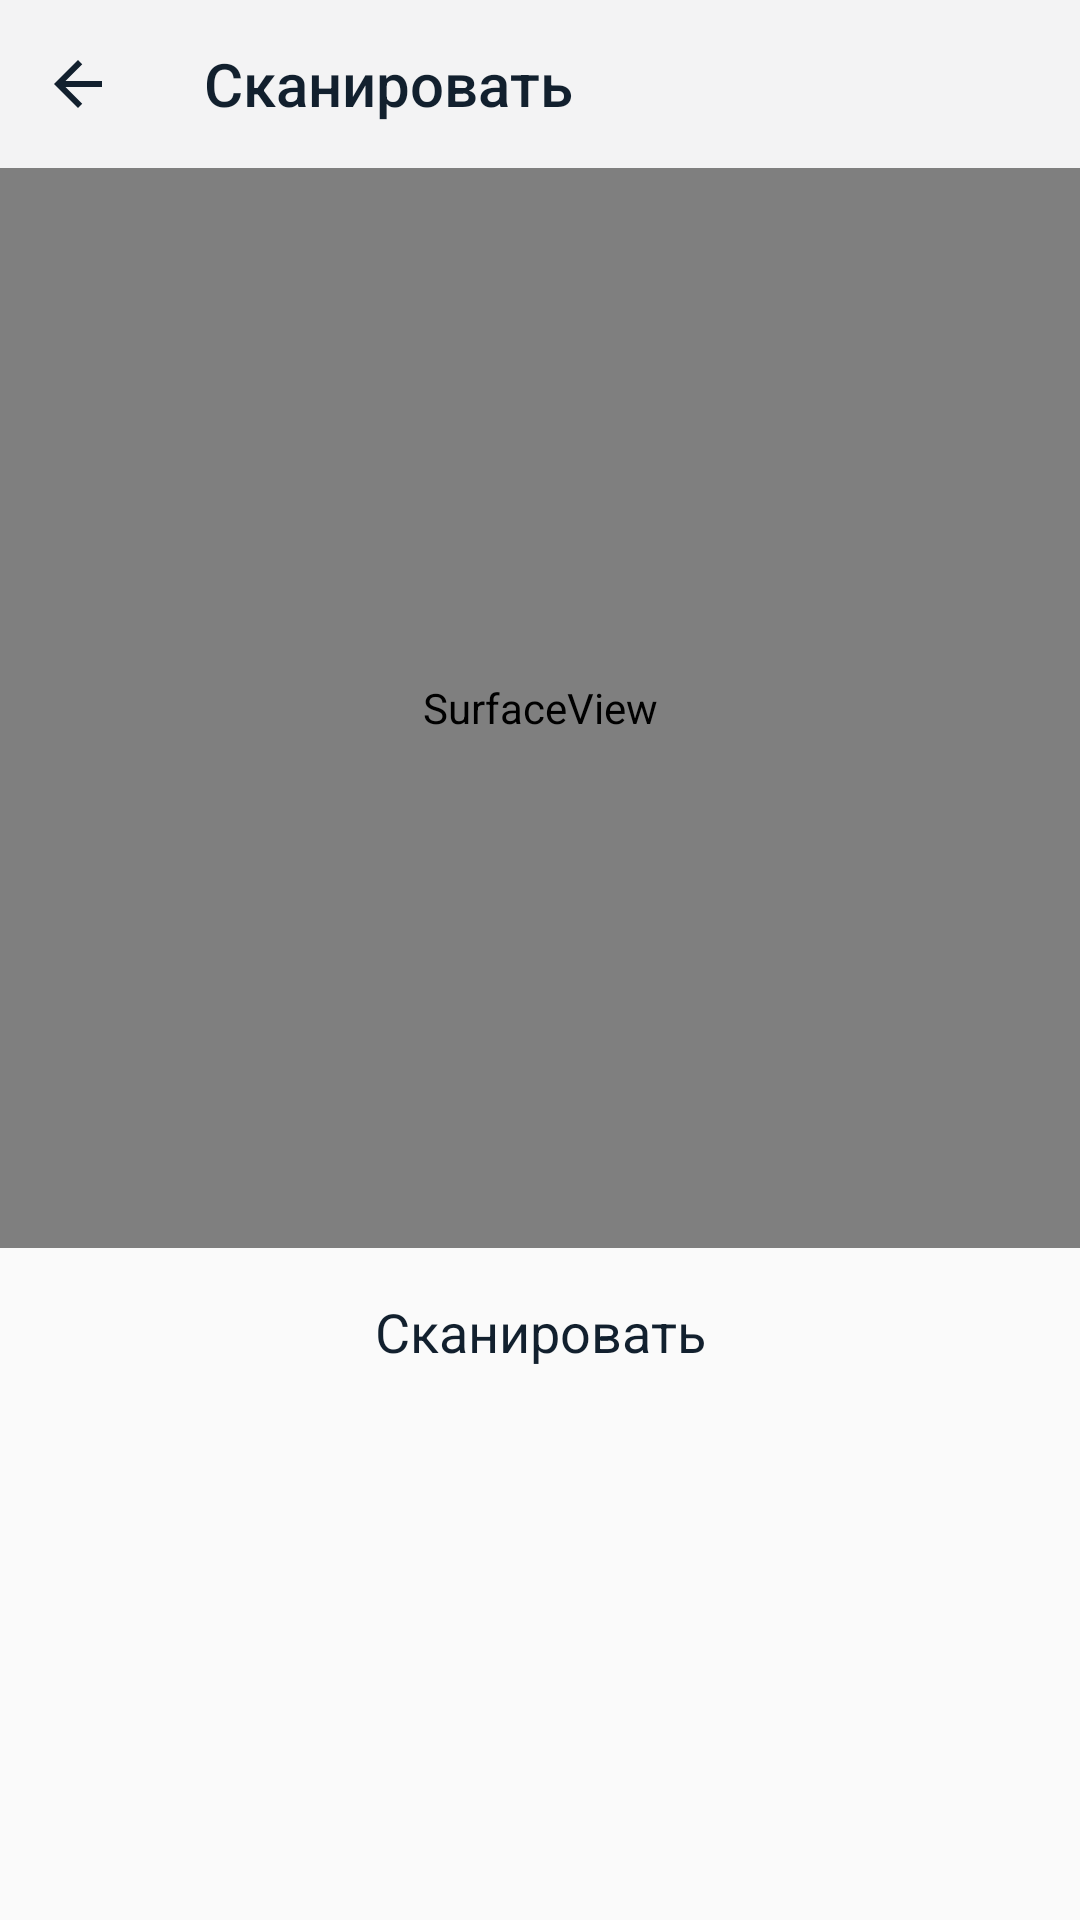

Where icons sit on this 1080px×1920px app screen, as (x1, y1, x2, y2):
arrback: (54, 60, 102, 108)
